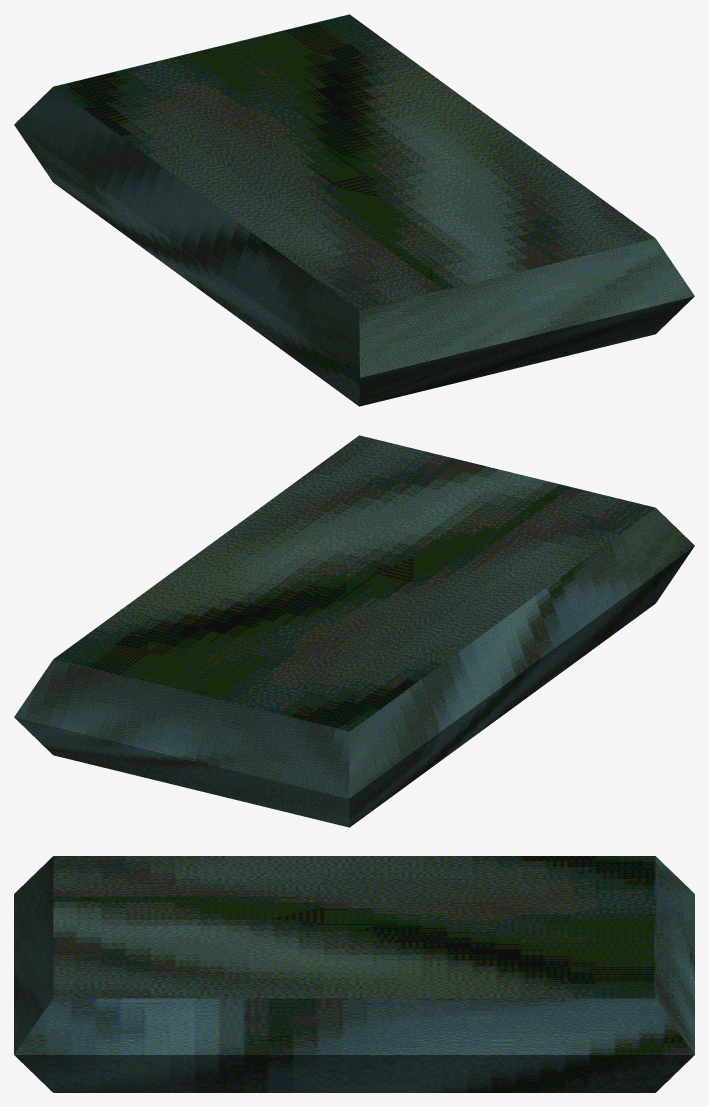
File: SM_Pillow.fbx
3 renders of one model, top to bottom at view 1: azimuth 30°, elevation 25°; view 2: azimuth 150°, elevation 25°; view 3: azimuth 270°, elevation 25°, orthographic.
Parts seen in each view (by area): view 1: SM_Pillow; view 2: SM_Pillow; view 3: SM_Pillow.
Boxes of the visible parts, box(x1,y1,x2,y2) form: SM_Pillow: box(14, 14, 694, 406); SM_Pillow: box(14, 435, 694, 827); SM_Pillow: box(14, 856, 694, 1092).
Bounding box in the file's own units: 26.92 × 7.36 × 48.16.
